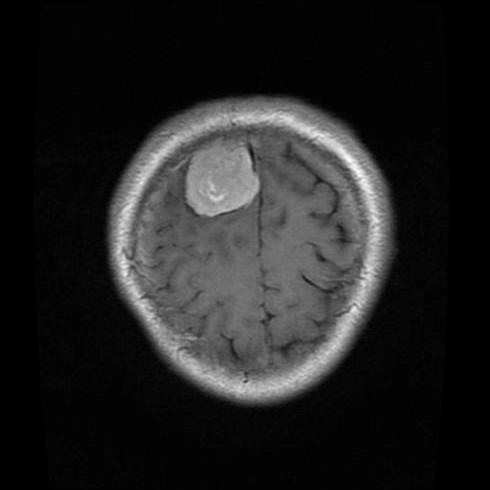Tumour-Meningioma: (174, 126, 270, 241)
